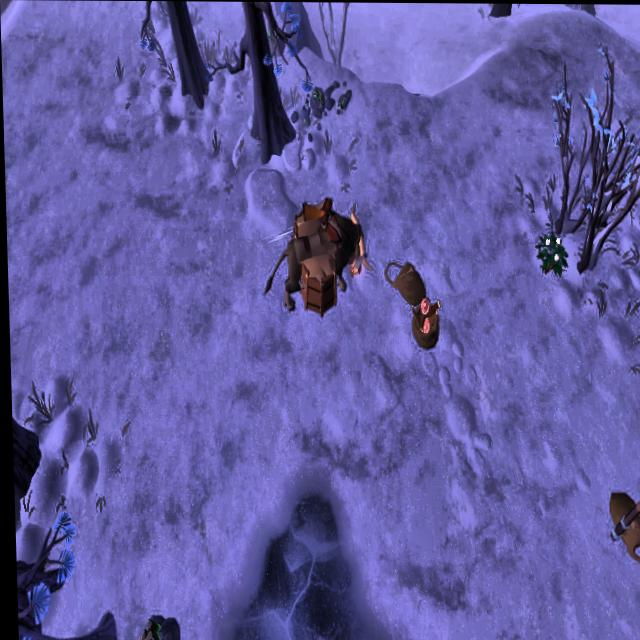fiber_t3: (534, 229, 568, 279)
